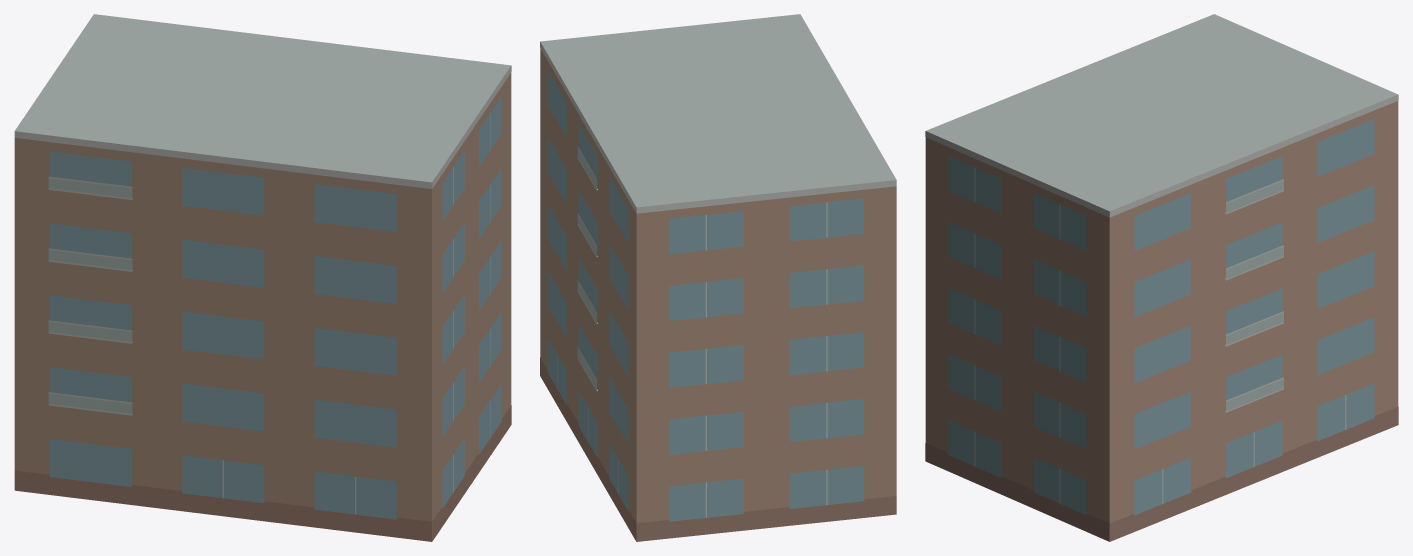
The model's file is survey-upis-32727514.glb.
3 renders of one model, left to right at view 1: azimuth 30°, elevation 25°; view 2: azimuth 150°, elevation 25°; view 3: azimuth 270°, elevation 25°, orthographic. The views are drawn at different scales.
Parts seen in each view (by area): view 1: survey-upis-32727514.tmp; view 2: survey-upis-32727514.tmp; view 3: survey-upis-32727514.tmp.
Part boxes in pixels (x1,y1,x2,y2): survey-upis-32727514.tmp: (14,14,511,541); survey-upis-32727514.tmp: (540,14,896,541); survey-upis-32727514.tmp: (925,14,1398,541).
Size of the model in its own units: 16.92 by 13.2 by 17.13.
